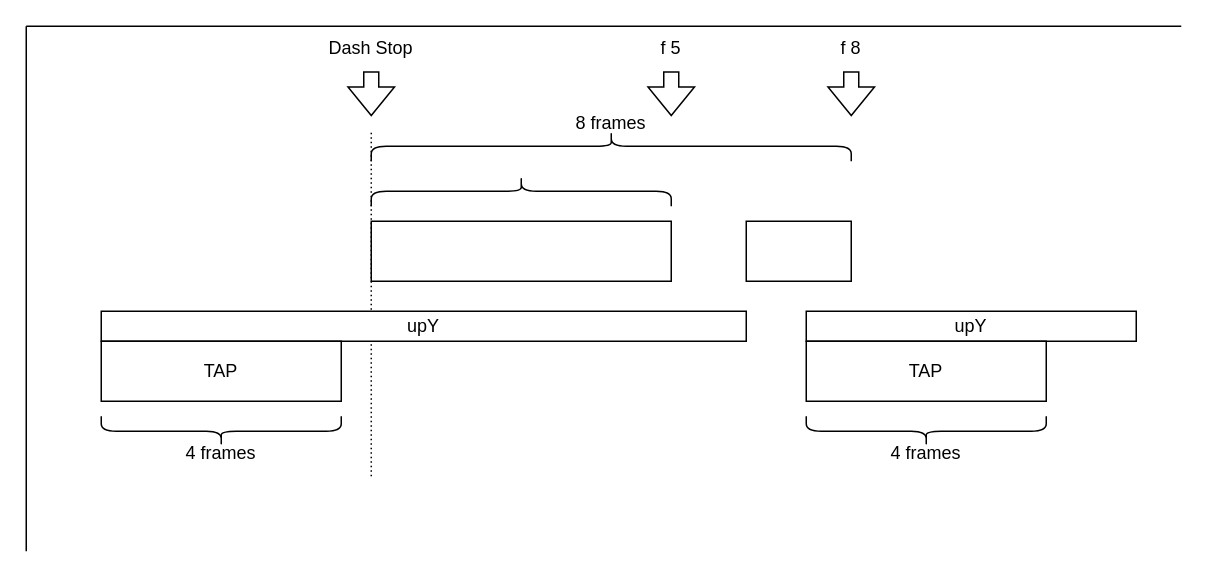
The diagram is 1209 pixels wide and 579 high, and some of its shapes have lost their labels. The shapes that lost their labels are listed below. From the top down, each one's box as (x1, y1, x2, y2) in pixels, then its label:
(370, 175, 671, 206): 5 frames
(370, 220, 671, 281): FORCE_FTILT
(745, 220, 851, 281): EXTEND
